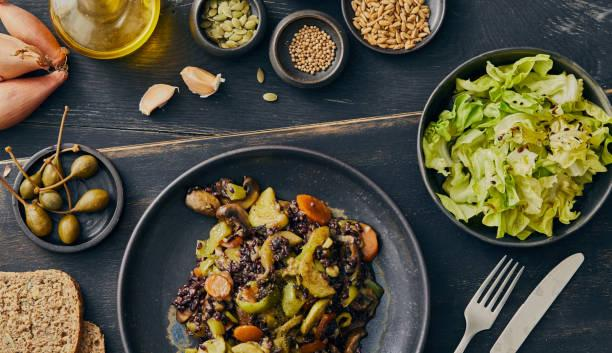Braised Crucian Carp: (118, 146, 425, 353), (417, 47, 610, 248)
